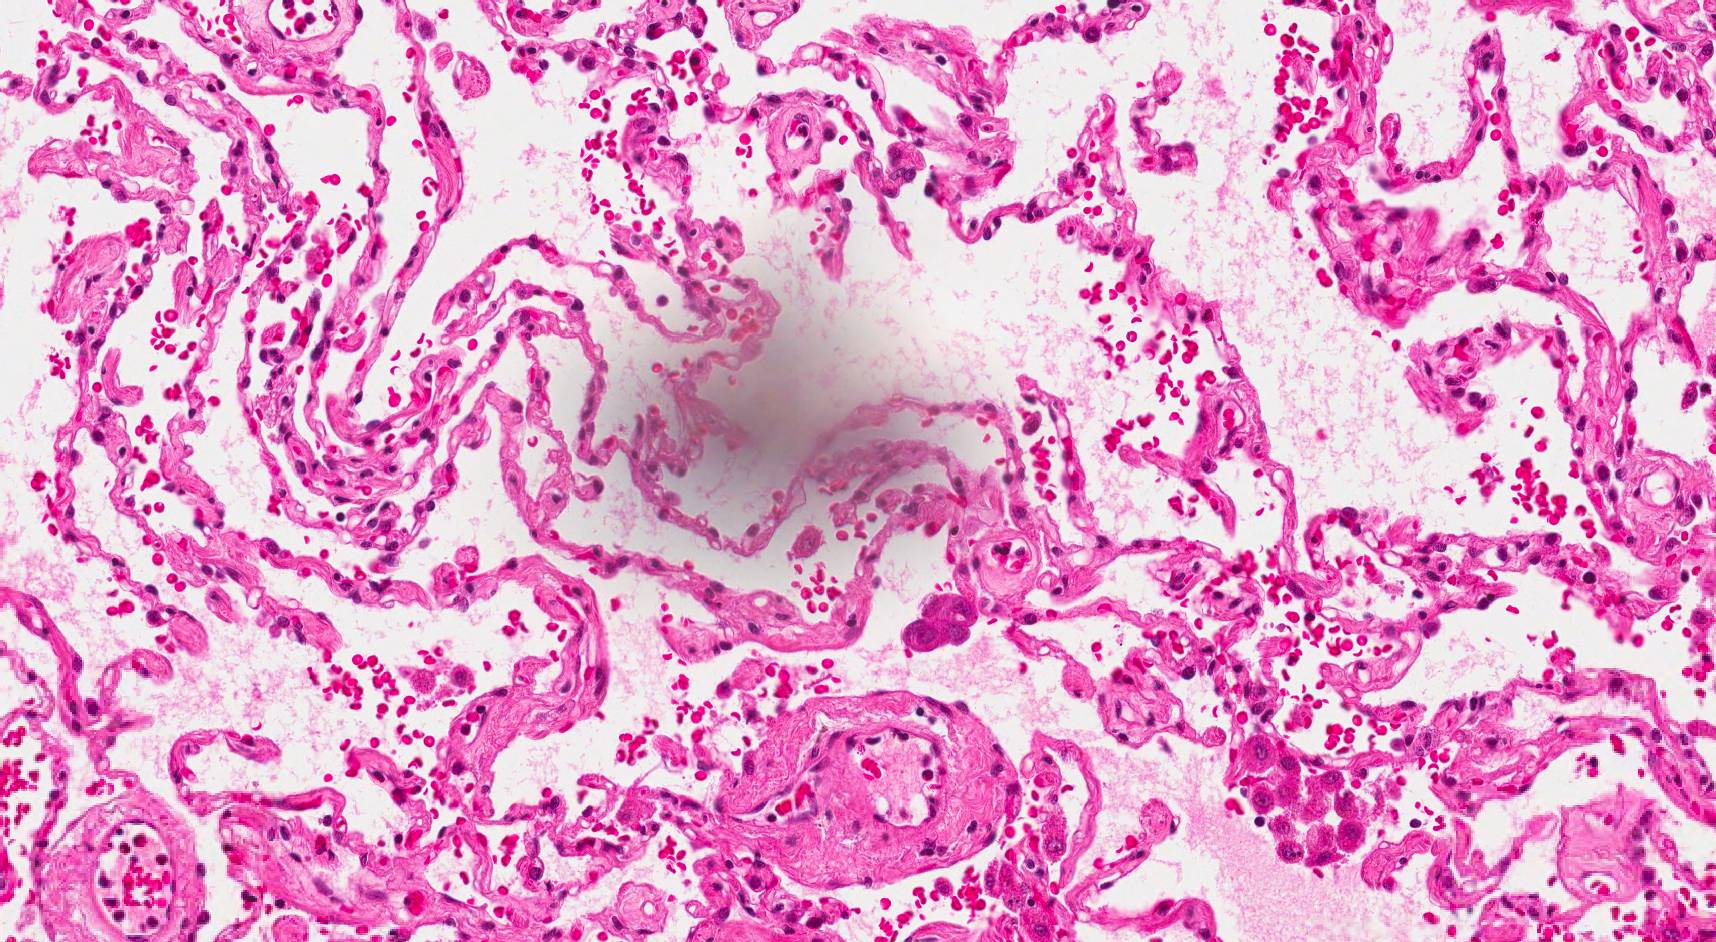stas: (898, 588, 980, 661)
